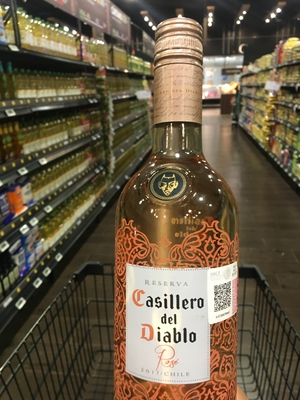casillero del diablo rose: (113, 10, 243, 400)
